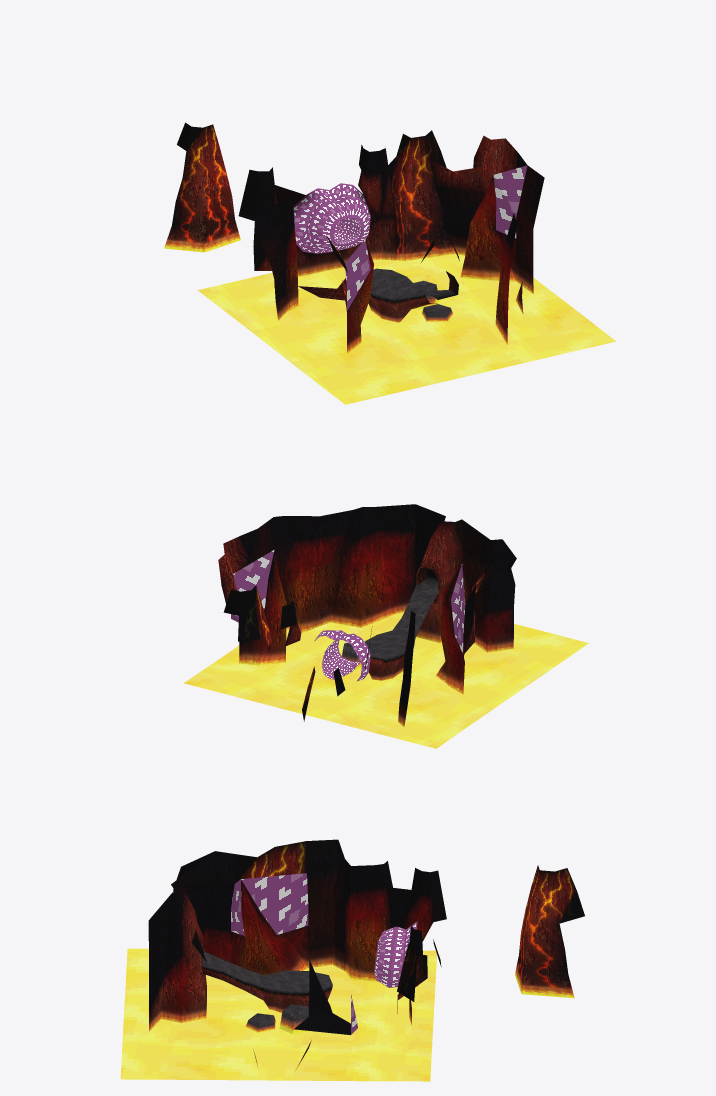
The model's file is AlienEntrance.glb.
3 views of the same model, one above another, from view 1: azimuth 30°, elevation 25°; view 2: azimuth 150°, elevation 25°; view 3: azimuth 270°, elevation 25° (orthographic). The views are drawn at different scales.
Visible parts, largest first — view 1: AlienEntrance_18, AlienEntrance_3, AlienEntrance_2, AlienEntrance_5, AlienEntrance_6, AlienEntrance_4, AlienEntrance_Alpha_14, AlienEntrance_20, AlienEntrance_Alpha_17, AlienEntrance_11, AlienEntrance_Alpha_12, AlienEntrance_9 (+6 smaller); view 2: AlienEntrance_18, AlienEntrance_3, AlienEntrance_5, AlienEntrance_4, AlienEntrance_6, AlienEntrance_2, AlienEntrance_20, AlienEntrance_7, AlienEntrance_9; view 3: AlienEntrance_18, AlienEntrance_3, AlienEntrance_4, AlienEntrance_5, AlienEntrance_2, AlienEntrance_6, AlienEntrance_7, AlienEntrance_20, AlienEntrance_Alpha_10, AlienEntrance_Alpha_14, AlienEntrance_22, AlienEntrance_Alpha_17 (+4 smaller).
Part boxes in pixels (x1,y1,x2,y2): AlienEntrance_18: (198, 254, 615, 404); AlienEntrance_3: (244, 135, 544, 273); AlienEntrance_2: (293, 165, 527, 310); AlienEntrance_5: (274, 209, 533, 334); AlienEntrance_6: (274, 233, 533, 353); AlienEntrance_4: (253, 186, 533, 301); AlienEntrance_Alpha_14: (164, 219, 240, 252); AlienEntrance_20: (371, 268, 457, 314); AlienEntrance_Alpha_17: (172, 196, 234, 228); AlienEntrance_11: (342, 183, 442, 310); AlienEntrance_Alpha_12: (175, 173, 231, 204); AlienEntrance_9: (390, 151, 446, 190); AlienEntrance_18: (184, 612, 588, 748); AlienEntrance_3: (218, 504, 516, 672); AlienEntrance_5: (239, 554, 513, 707); AlienEntrance_4: (264, 544, 515, 683); AlienEntrance_6: (239, 592, 513, 726); AlienEntrance_2: (231, 549, 465, 680); AlienEntrance_20: (343, 576, 439, 658); AlienEntrance_7: (223, 570, 486, 615); AlienEntrance_9: (238, 588, 474, 641); AlienEntrance_18: (120, 948, 436, 1081); AlienEntrance_3: (148, 839, 446, 994); AlienEntrance_4: (149, 895, 432, 1034); AlienEntrance_5: (149, 920, 411, 1012); AlienEntrance_2: (231, 873, 417, 1034); AlienEntrance_6: (149, 944, 418, 1070); AlienEntrance_7: (234, 841, 441, 973); AlienEntrance_20: (202, 952, 332, 1024); AlienEntrance_Alpha_10: (525, 886, 584, 923); AlienEntrance_Alpha_14: (515, 955, 574, 998); AlienEntrance_22: (202, 966, 332, 1004); AlienEntrance_Alpha_17: (519, 932, 568, 973).
Size of the model in its own units: 375 by 115 by 581.
Materials: 24 (24 with a texture image).
